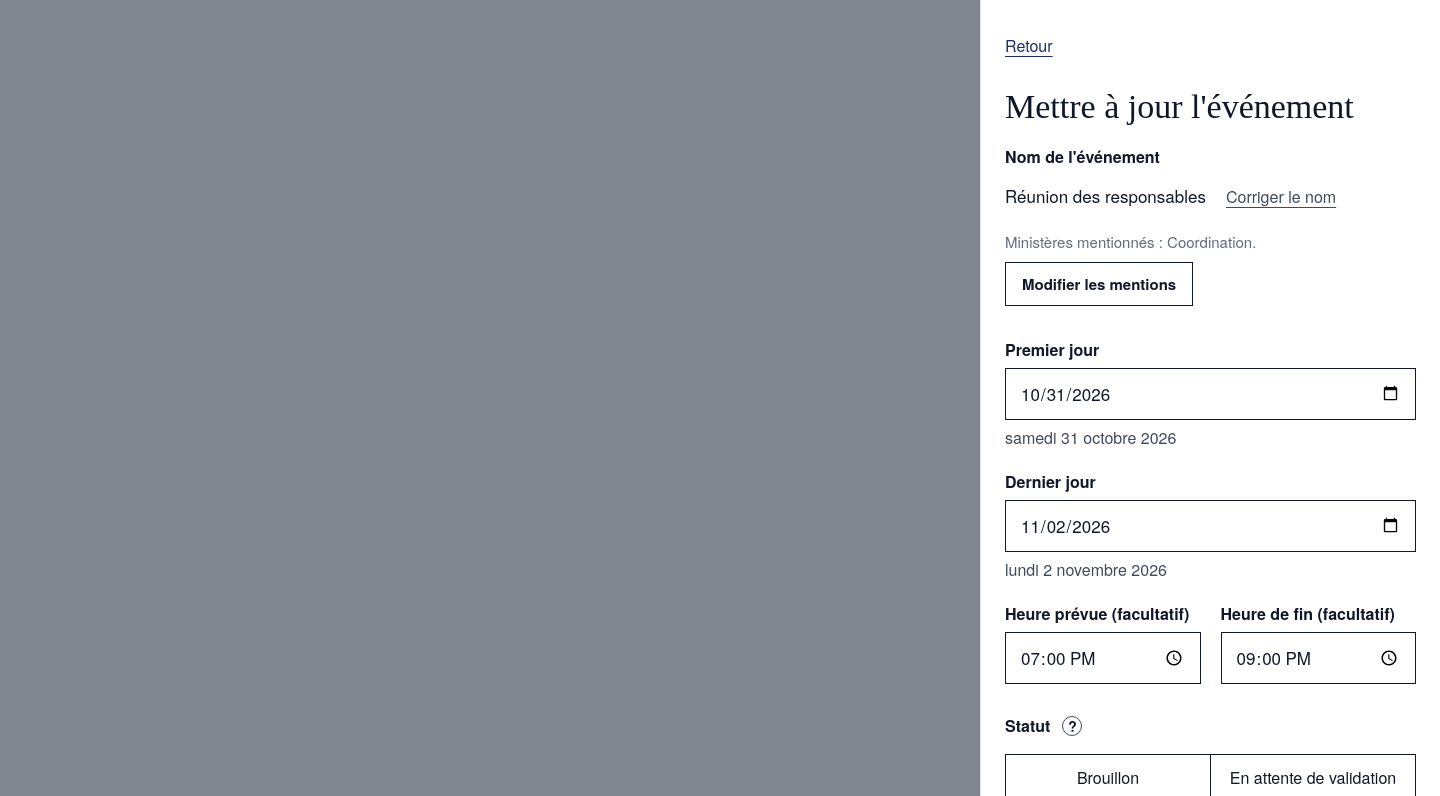
Test: un événement sur plusieurs jours (T78, lot 2) › un report du premier jour décale le dernier : la durée reste
Type "2026-11-07" into the date field labelled "Premier jour".
click(1210, 394); type("2026-11-07")  # box [1005, 368, 1416, 420]
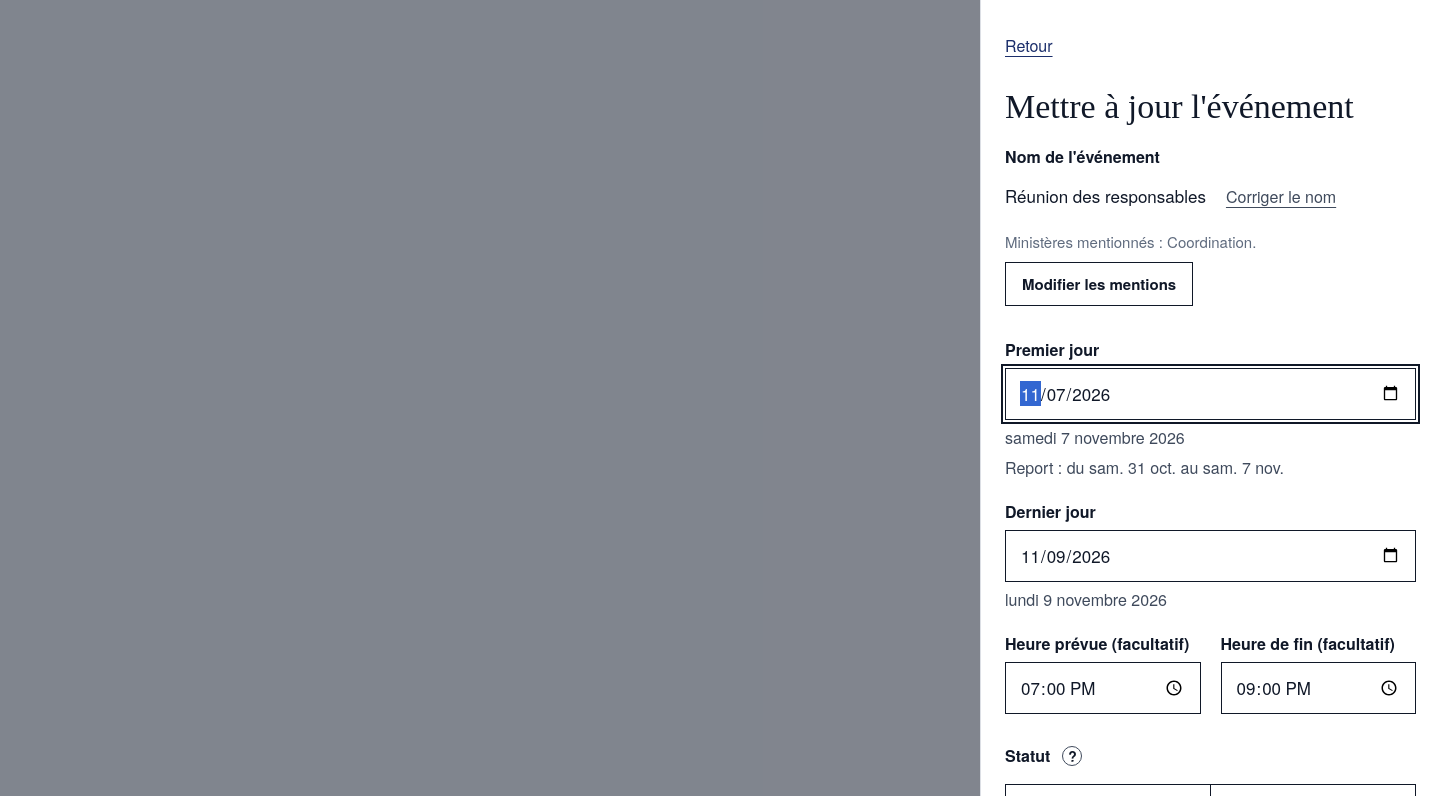
Expected: the date field labelled "Dernier jour" holds "2026-11-09", [1005, 530, 1416, 582]
